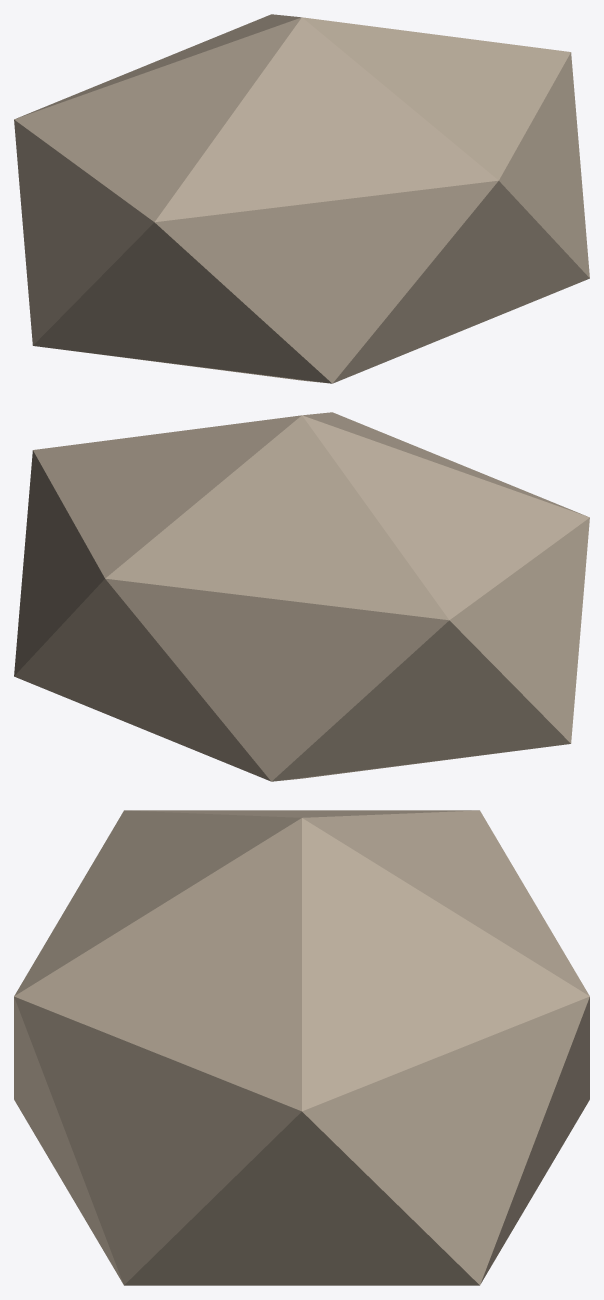
Rendered from rock.glb.
3 views of the same model, one above another, from view 1: azimuth 30°, elevation 25°; view 2: azimuth 150°, elevation 25°; view 3: azimuth 270°, elevation 25° (orthographic). The views are drawn at different scales.
Parts seen in each view (by area): view 1: Icosphere; view 2: Icosphere; view 3: Icosphere.
Part boxes in pixels (<box>): Icosphere: <box>14,14,589,383</box>; Icosphere: <box>14,412,589,781</box>; Icosphere: <box>14,810,589,1285</box>.
Bounding box in the file's own units: 3.26 × 2.1 × 2.38.
